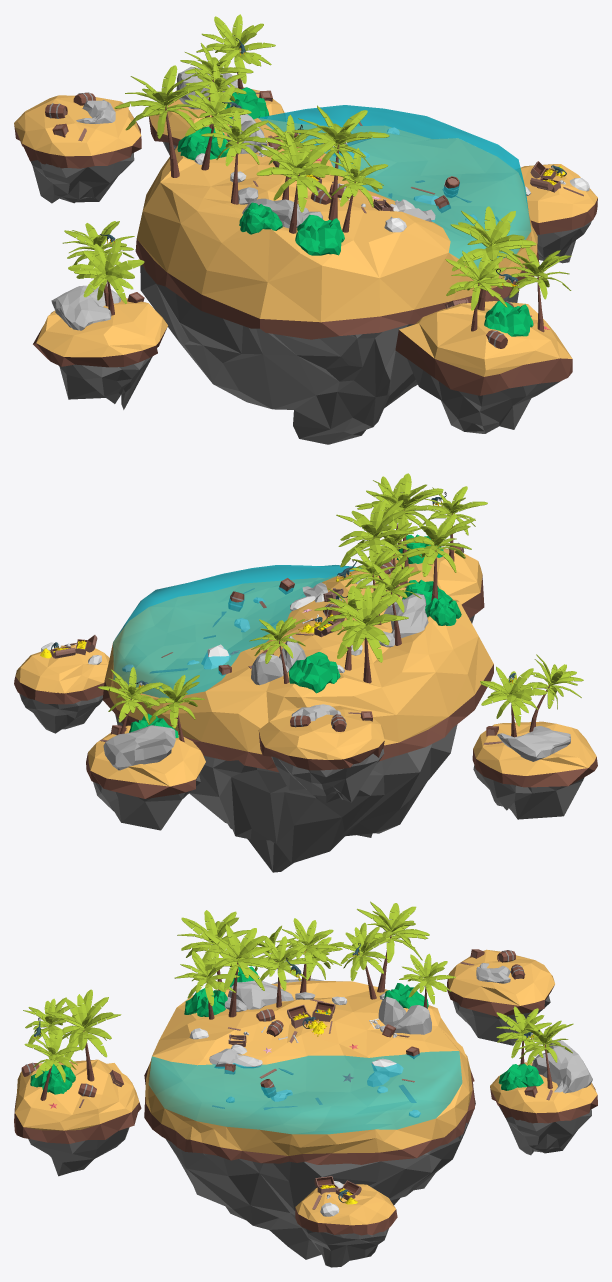
The model's file is land_20.fbx.
The picture shows the model from 3 angles, top to bottom: view 1: azimuth 30°, elevation 25°; view 2: azimuth 150°, elevation 25°; view 3: azimuth 270°, elevation 25°; orthographic projection. The views are drawn at different scales.
Visible parts, largest first — view 1: land_14.110, land_20.400, land_14.109, land_19.127, land_19.125, land_19.159, land_20.456, land_20.429, land_20.323, land_20.415, land_20.004, land_20.312 (+19 smaller); view 2: land_14.110, land_20.400, land_19.127, land_19.125, land_19.154, land_19.159, land_20.429, land_14.109, land_20.313, land_20.456, land_20.415, land_20.007 (+17 smaller); view 3: land_14.110, land_20.400, land_14.109, land_19.127, land_19.159, land_19.154, land_20.415, land_20.323, land_20.429, land_20.313, land_20.437, land_20.456 (+17 smaller).
Boxes of the visible parts, bbox=[...] form: land_14.110: bbox=[135, 118, 539, 444]; land_20.400: bbox=[258, 105, 531, 268]; land_14.109: bbox=[395, 301, 572, 433]; land_19.127: bbox=[14, 95, 141, 203]; land_19.125: bbox=[33, 298, 167, 409]; land_19.159: bbox=[520, 164, 597, 263]; land_20.456: bbox=[256, 131, 347, 233]; land_20.429: bbox=[114, 65, 210, 177]; land_20.323: bbox=[450, 206, 536, 310]; land_20.415: bbox=[292, 105, 389, 220]; land_20.004: bbox=[68, 240, 144, 315]; land_20.312: bbox=[196, 14, 275, 89]; land_14.110: bbox=[102, 570, 493, 872]; land_20.400: bbox=[113, 565, 361, 697]; land_19.127: bbox=[258, 706, 384, 802]; land_19.125: bbox=[472, 721, 597, 819]; land_19.154: bbox=[86, 725, 205, 830]; land_19.159: bbox=[14, 645, 109, 733]; land_20.429: bbox=[329, 583, 408, 683]; land_14.109: bbox=[388, 548, 484, 623]; land_20.313: bbox=[103, 725, 175, 770]; land_20.456: bbox=[395, 514, 475, 600]; land_20.415: bbox=[336, 500, 413, 598]; land_20.007: bbox=[480, 666, 546, 737]; land_14.110: bbox=[144, 980, 475, 1259]; land_20.400: bbox=[148, 1051, 462, 1134]; land_14.109: bbox=[14, 1059, 141, 1176]; land_19.127: bbox=[447, 949, 554, 1045]; land_19.159: bbox=[295, 1184, 397, 1267]; land_19.154: bbox=[490, 1062, 597, 1155]; land_20.415: bbox=[204, 924, 276, 1017]; land_20.323: bbox=[45, 989, 121, 1081]; land_20.429: bbox=[357, 901, 429, 992]; land_20.313: bbox=[532, 1040, 592, 1093]; land_20.437: bbox=[331, 922, 390, 999]; land_20.456: bbox=[177, 910, 250, 990].
Size of the model in its own units: 30.5 by 17.87 by 31.73.
